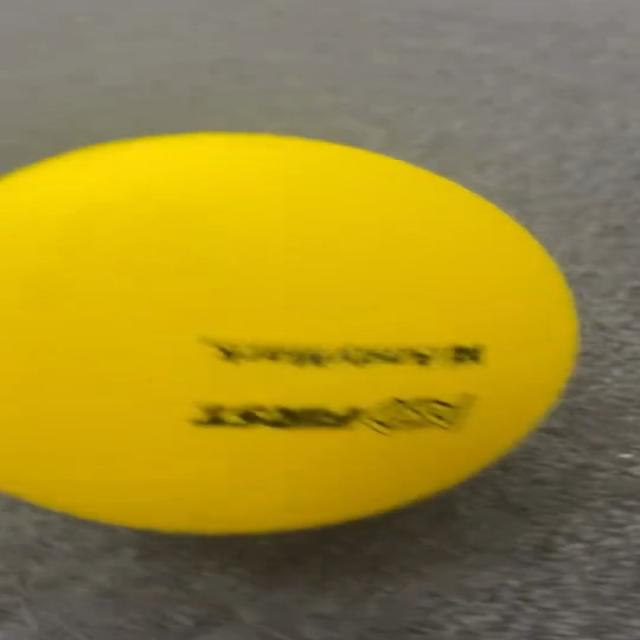Fuels: (6, 133, 578, 532)
